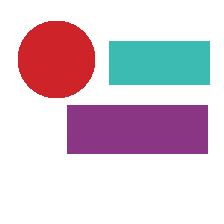circle: (18, 21, 94, 97)
rectangle: (67, 105, 207, 153), (109, 41, 209, 84)
